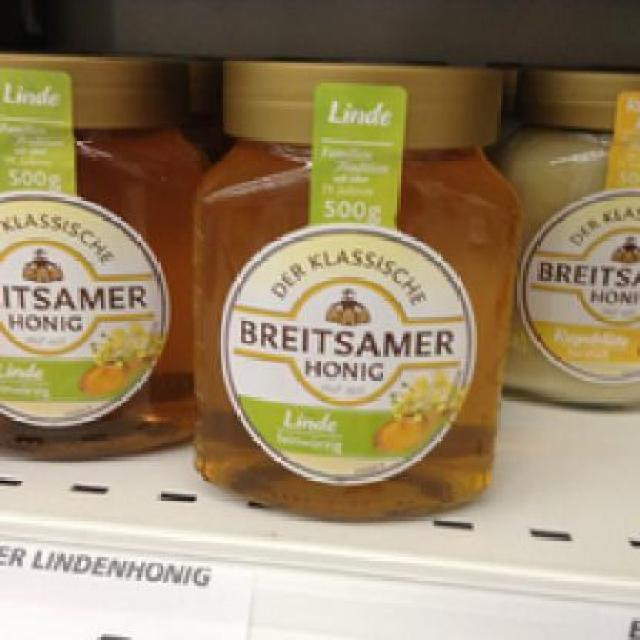Honey: (180, 46, 526, 532)
